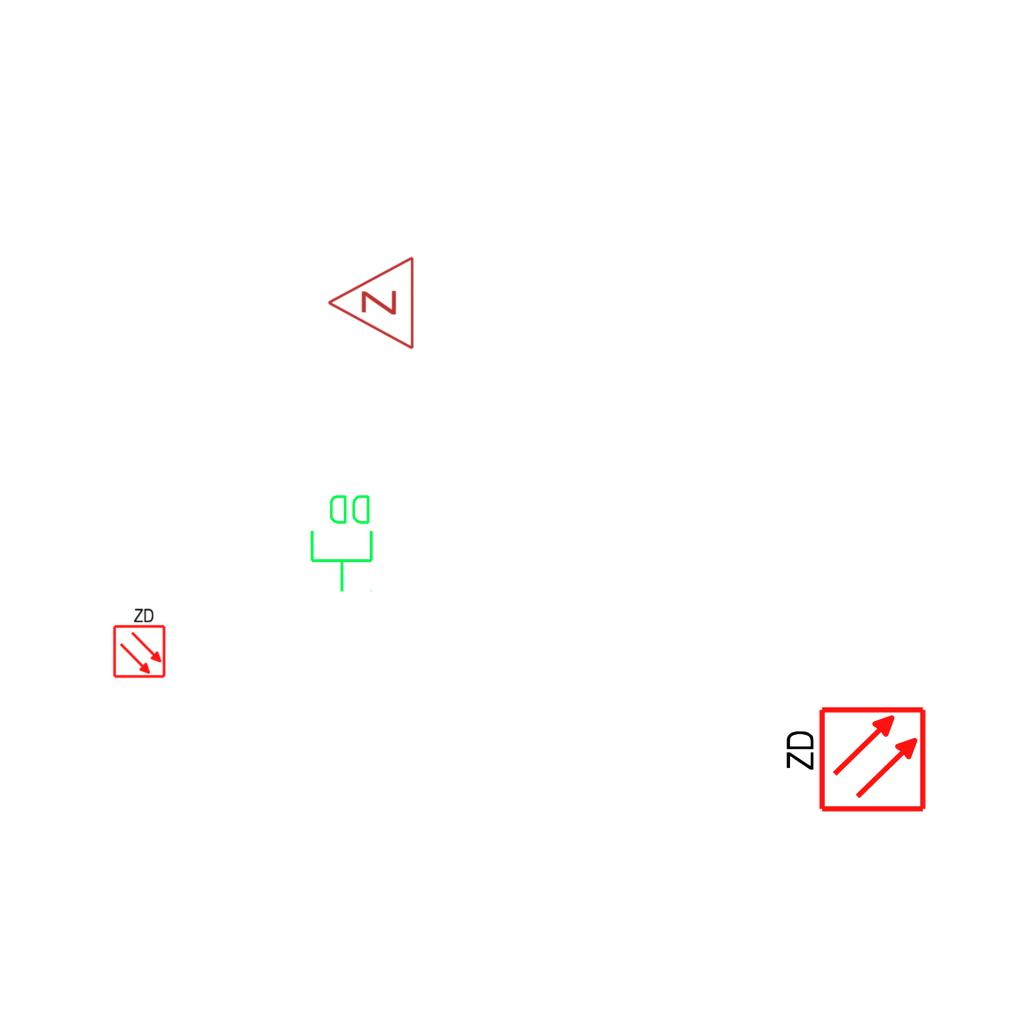Datenanschluss_zweifach: (308, 491, 377, 594)
ZD_Melder_in_Zwischendecke_mit_Revisionsoeffnung_mind_40_x_40_cm: (779, 704, 928, 818), (110, 605, 167, 679)
Zimmersignalleuchte: (321, 255, 421, 353)
